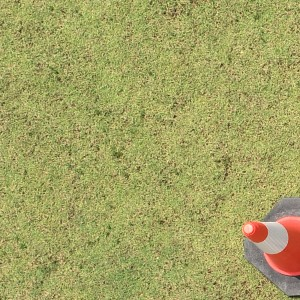traffic cone: (243, 198, 299, 297)
